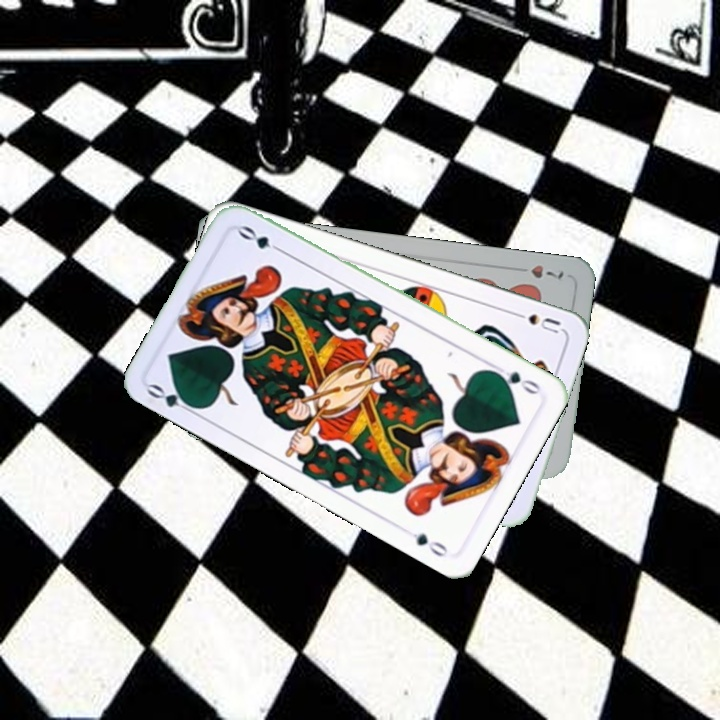GO: (143, 379, 201, 418), (487, 360, 544, 397)
H7: (527, 261, 566, 282)
SU: (507, 306, 563, 336)
